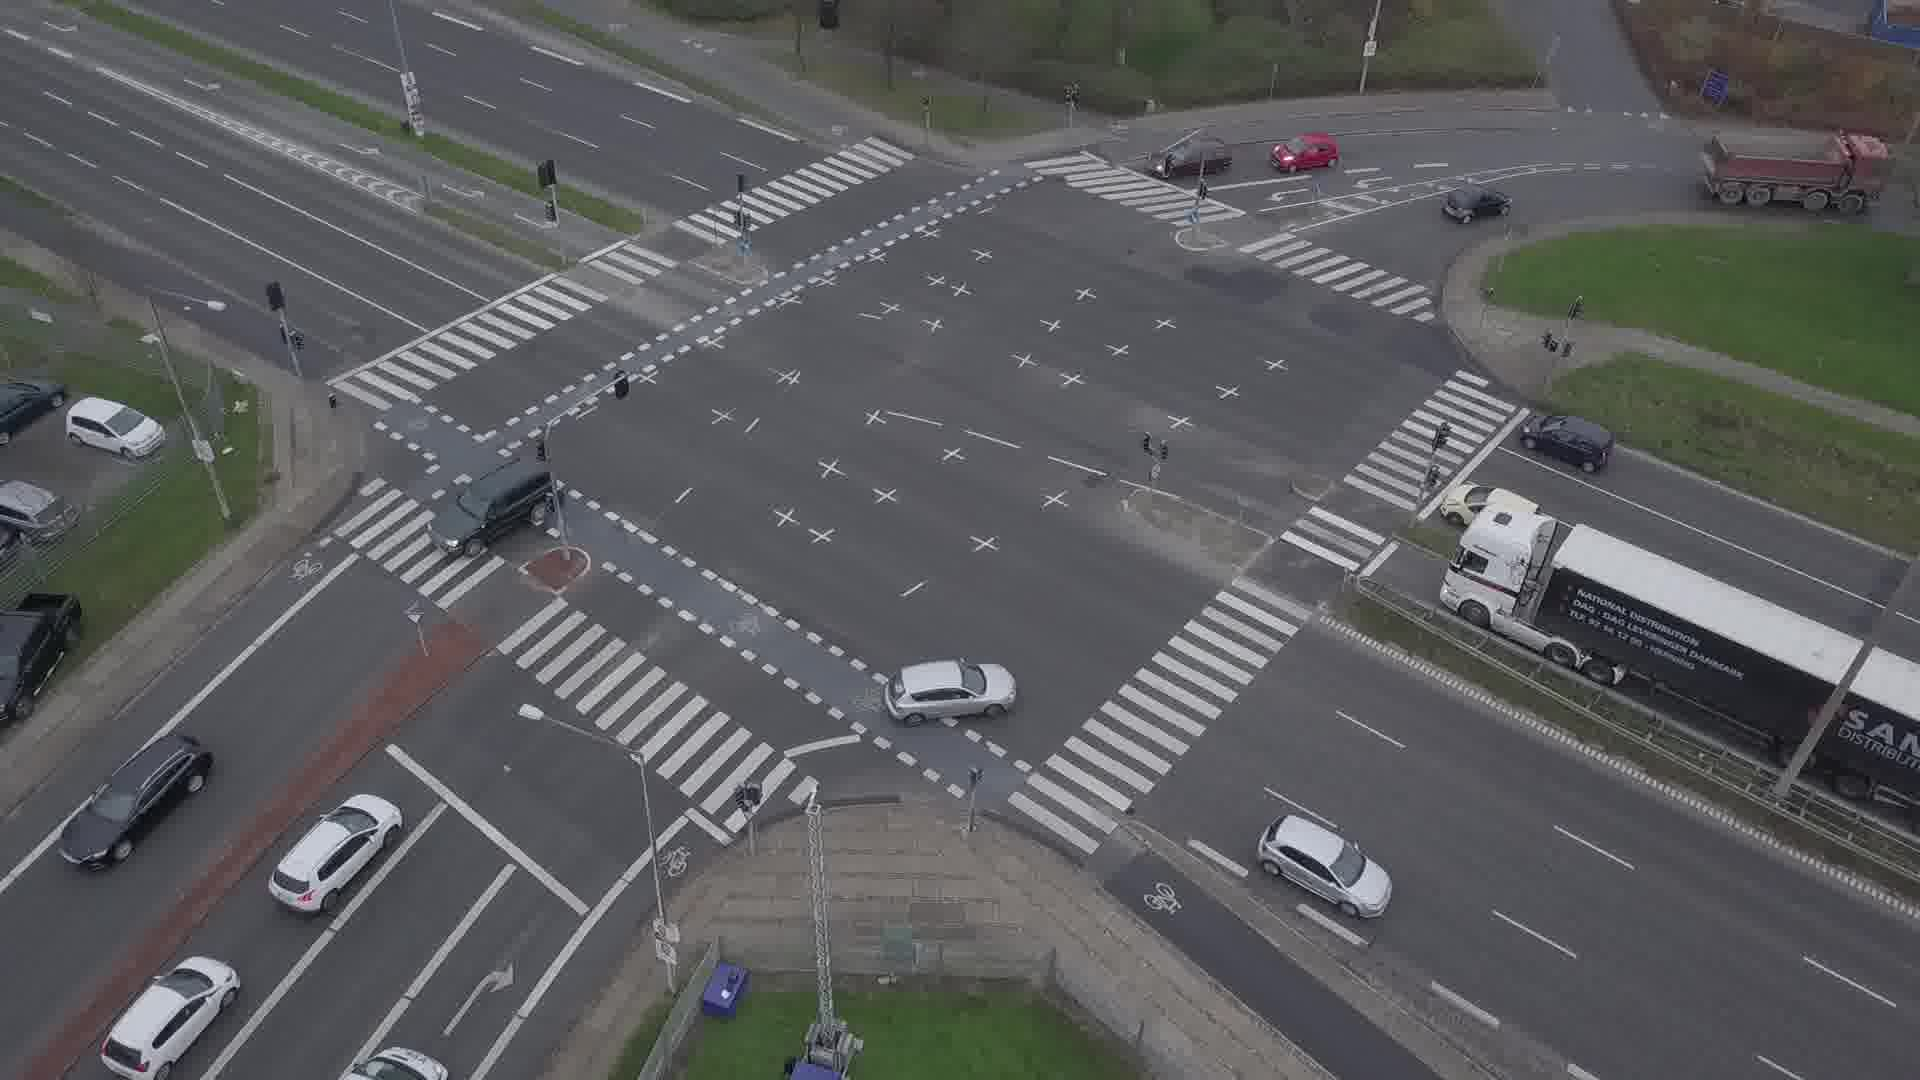car: (58, 735, 214, 872), (102, 956, 243, 1080), (268, 793, 402, 913), (1257, 814, 1393, 919), (427, 464, 562, 558), (884, 661, 1017, 727), (1520, 413, 1615, 472), (1441, 483, 1543, 526), (1146, 140, 1233, 179), (1441, 185, 1513, 225), (1271, 131, 1338, 171)
